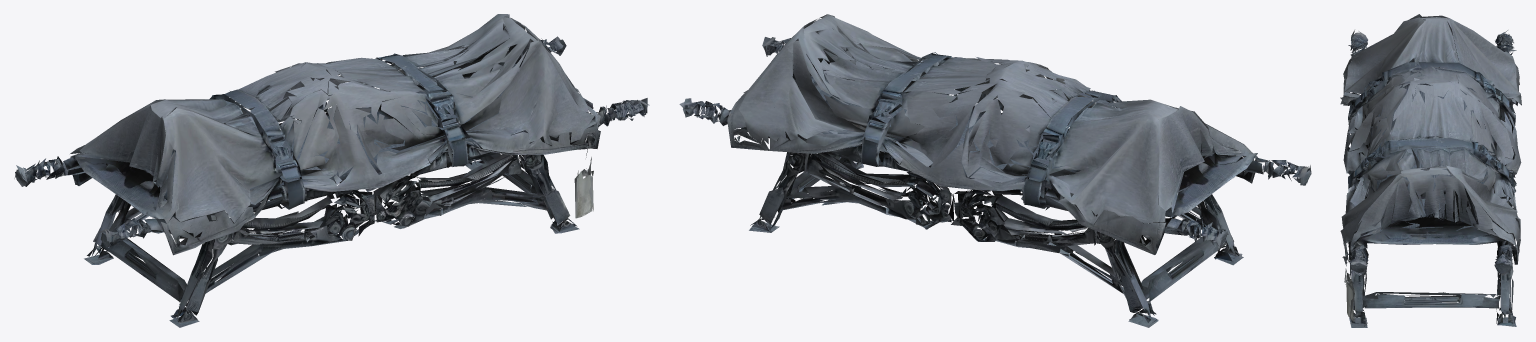
File: life_covered_stretcher.glb
3 renders of one model, left to right at view 1: azimuth 30°, elevation 25°; view 2: azimuth 150°, elevation 25°; view 3: azimuth 270°, elevation 25°, orthographic. The views are drawn at different scales.
Parts seen in each view (by area): view 1: node_0; view 2: node_0; view 3: node_0.
Boxes of the visible parts, left/top/right/bottom form: node_0: left=14, top=14, right=649, bottom=327; node_0: left=679, top=14, right=1311, bottom=327; node_0: left=1340, top=14, right=1521, bottom=327.
Size of the model in its own units: 1.15 by 0.3633 by 0.3838.
1 material, 1 textured.
